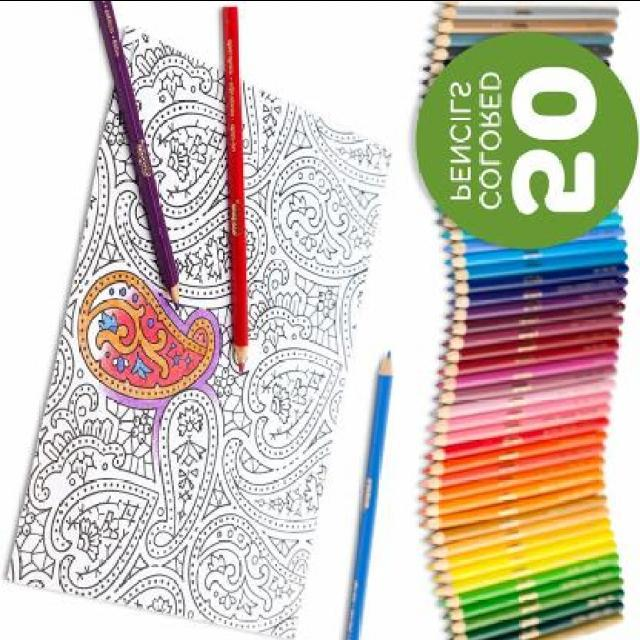pencil: (160, 259, 188, 315), (228, 334, 256, 378), (373, 346, 398, 384)
